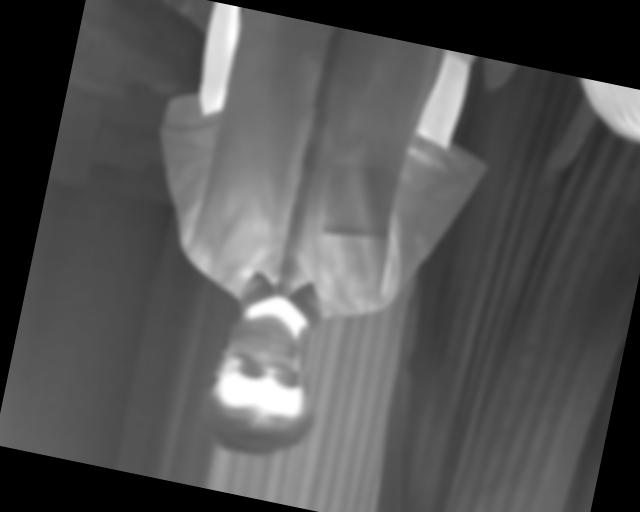face: (191, 303, 335, 469)
